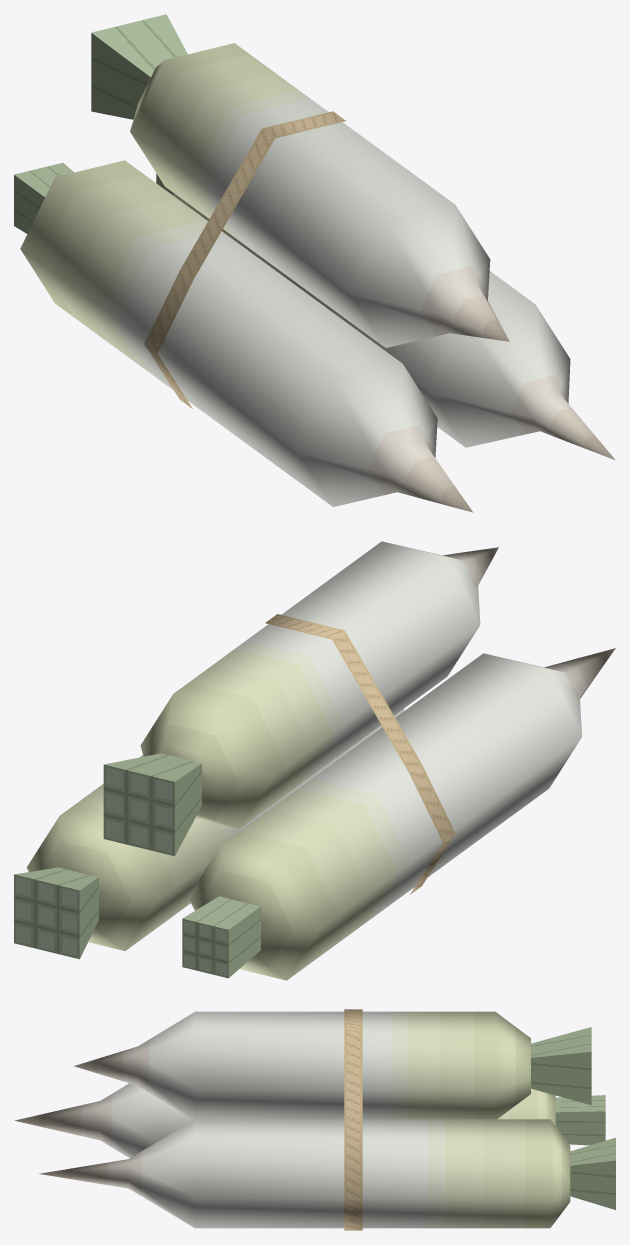
File: 00b9_Daikon_Radishes.glb
3 views of the same model, one above another, from view 1: azimuth 30°, elevation 25°; view 2: azimuth 150°, elevation 25°; view 3: azimuth 270°, elevation 25° (orthographic). The views are drawn at different scales.
Parts seen in each view (by area): view 1: part_0; view 2: part_0; view 3: part_0.
Part boxes in pixels (x1,y1,x2,y2): part_0: (14,14,615,512); part_0: (14,541,615,980); part_0: (14,1009,615,1230).
Size of the model in its own units: 0.1978 by 0.1549 by 0.4949.
Materials: 1 (1 with a texture image).
